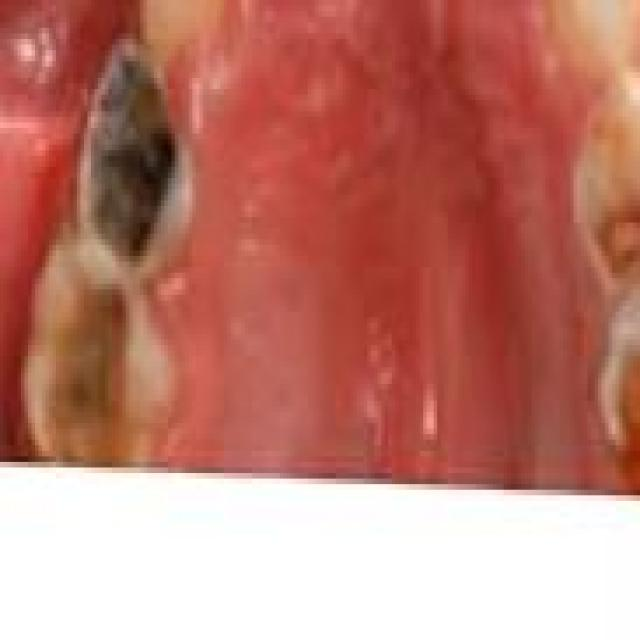caries: (16, 229, 167, 458), (66, 30, 201, 284), (563, 72, 640, 300), (587, 302, 639, 485)
